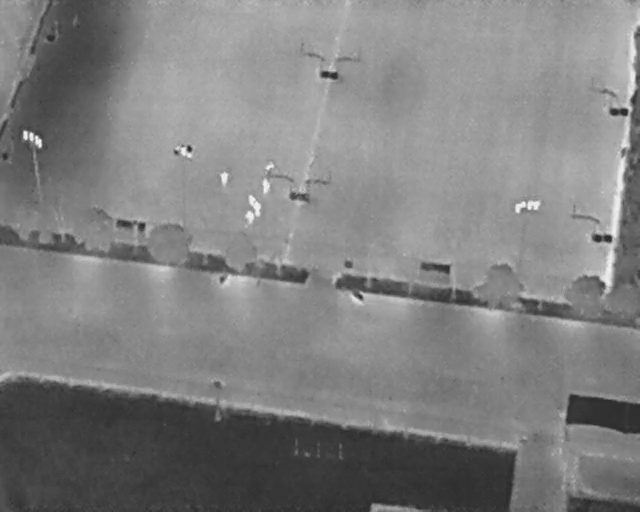Person: (261, 177, 272, 196), (244, 210, 255, 227), (265, 160, 275, 177), (220, 171, 229, 187), (254, 200, 262, 217), (248, 194, 256, 208)
